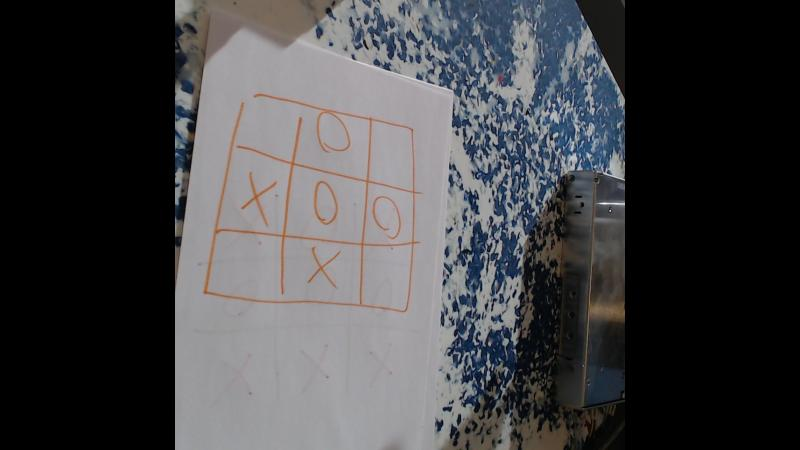O: (304, 108, 356, 160), (308, 175, 340, 232), (370, 190, 408, 238)
X: (233, 169, 276, 229), (301, 244, 344, 297)
grid: (211, 86, 414, 314)
